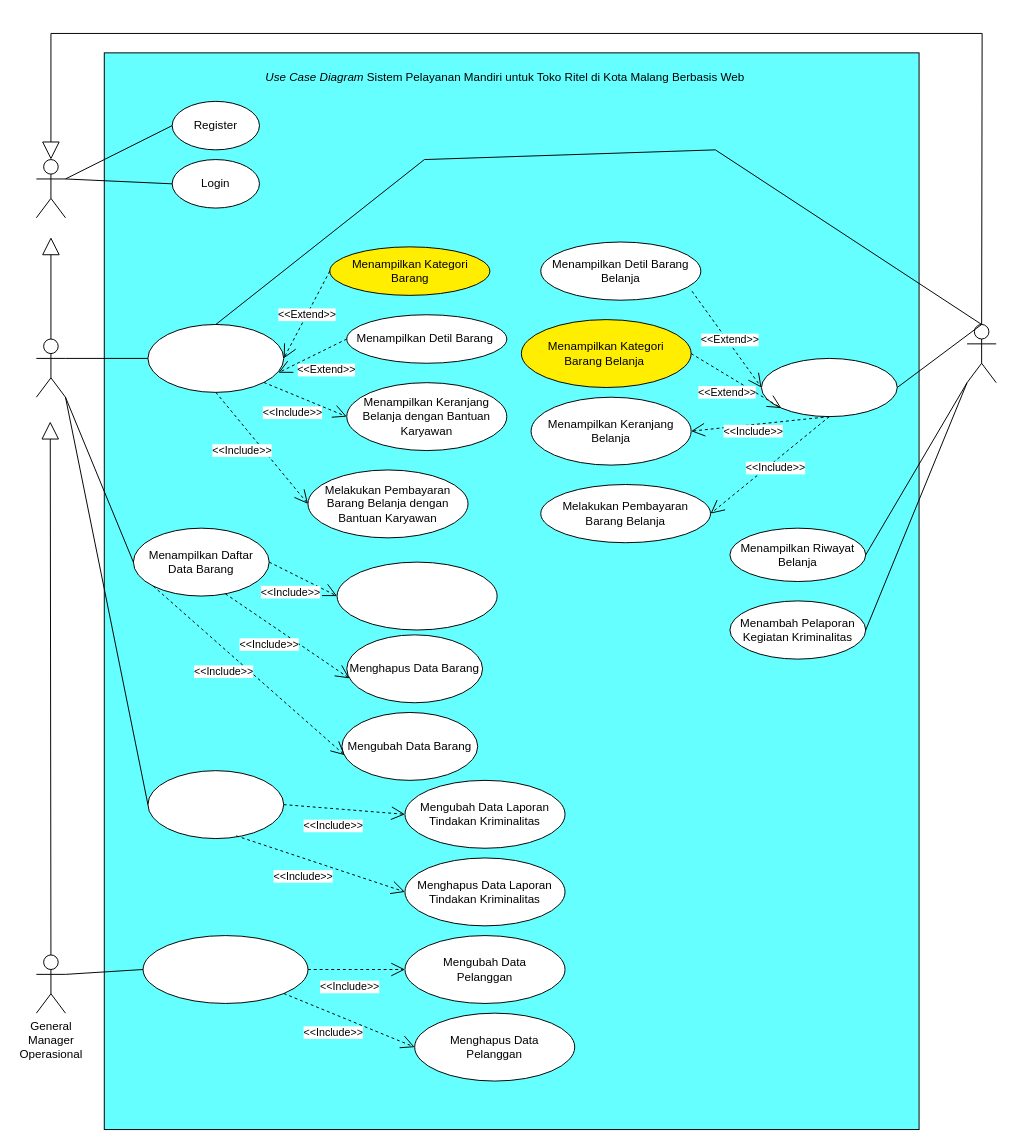
Some shapes in this 1026 by 1147 pixel diagram are drawn without their labels. Each missing label, with the centre of its shape:
"General User" belongs at point (50, 188).
"Karyawan" belongs at point (50, 367).
"Melakukan Belanja dengan Bantuan Karyawan" belongs at point (215, 357).
"Melakukan Belanja Mandiri" belongs at point (828, 387).
"Menambah Data Barang" belongs at point (416, 595).
"Menampilkan Daftar Data Pelanggan" belongs at point (225, 969).
"Menampilkan Daftar Laporan Tindakan Kriminalitas" belongs at point (215, 804).
"Pelanggan" belongs at point (981, 353).
